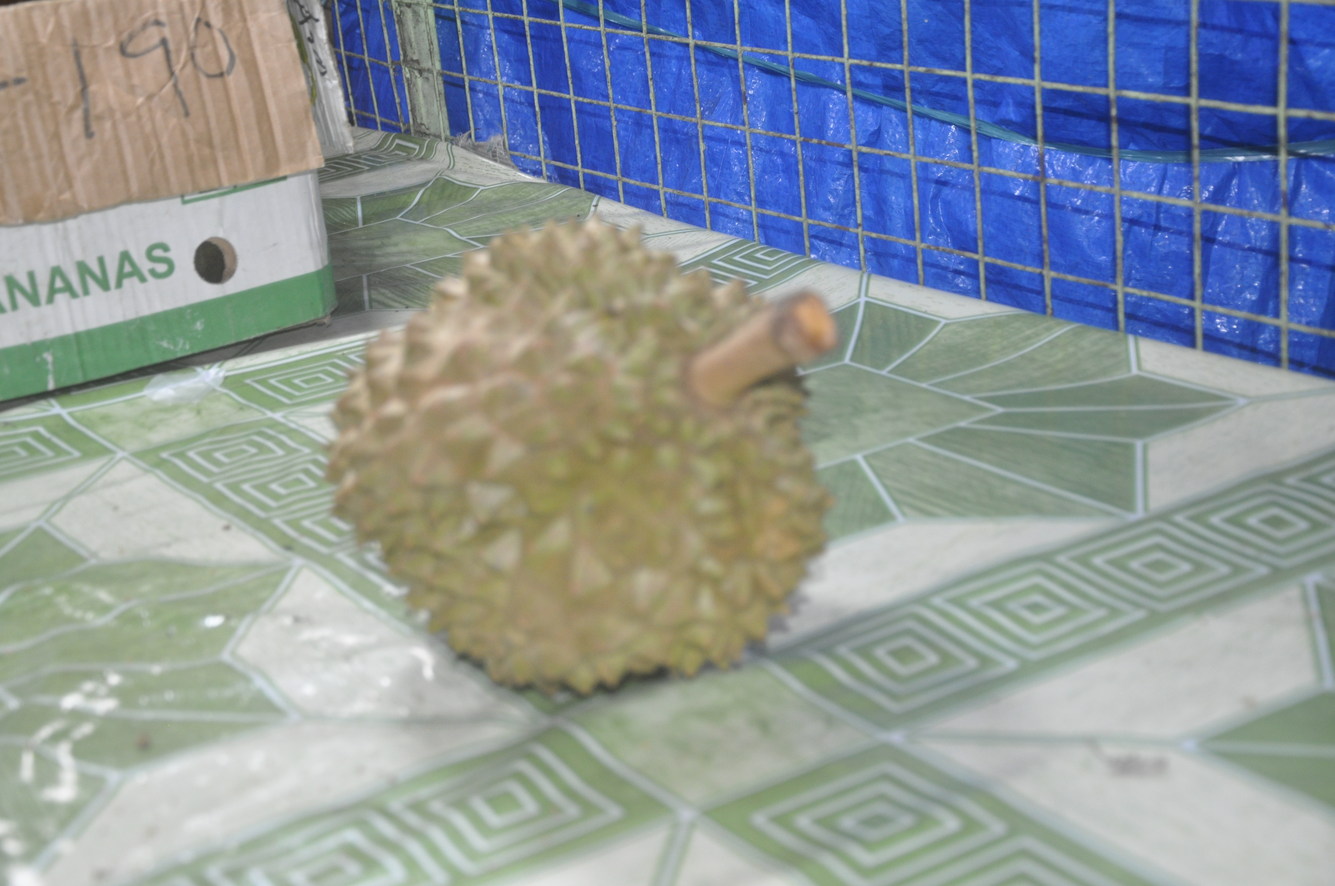mature: (327, 219, 837, 693)
